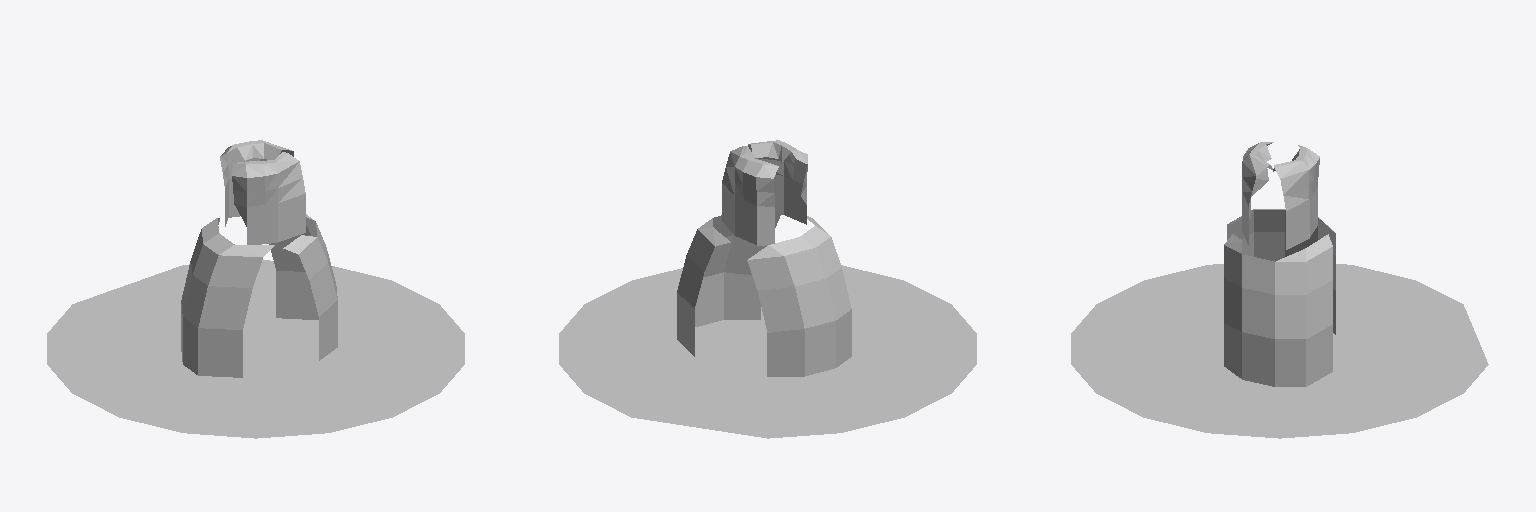
Rendered from air.obj.
3 renders of one model, left to right at view 1: azimuth 30°, elevation 25°; view 2: azimuth 150°, elevation 25°; view 3: azimuth 270°, elevation 25°, orthographic.
Parts seen in each view (by area): view 1: Object002; view 2: Object002; view 3: Object002.
Part boxes in pixels (x1,y1,x2,y2): Object002: (47, 140, 464, 438); Object002: (559, 140, 976, 438); Object002: (1071, 142, 1488, 438).
Size of the model in its own units: 5.83 by 3.15 by 5.74.